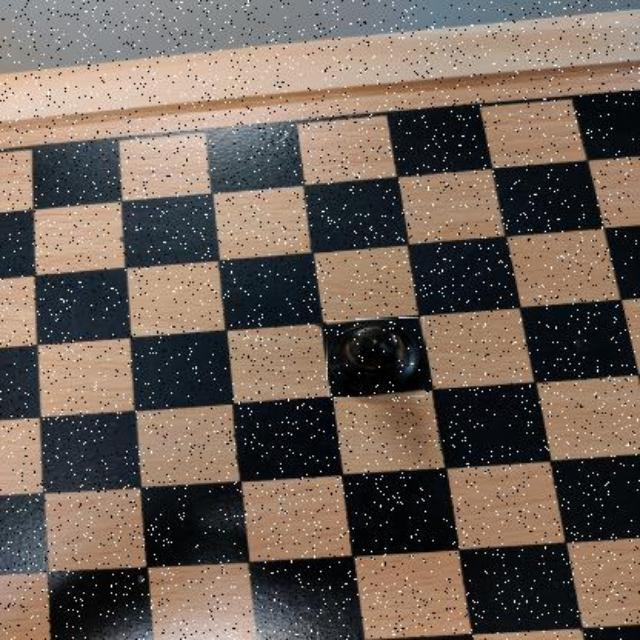black-bishop: (328, 318, 426, 398)
